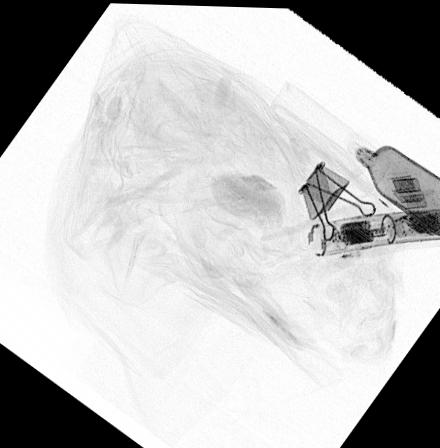Baton: (305, 204, 440, 254)
